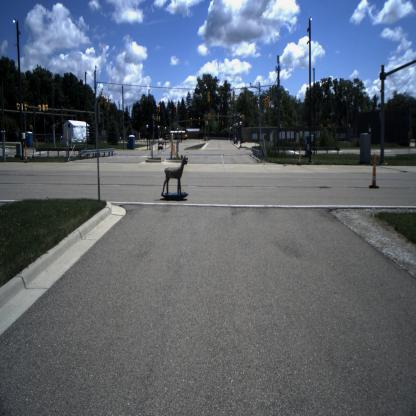Deer: (161, 152, 188, 196)
